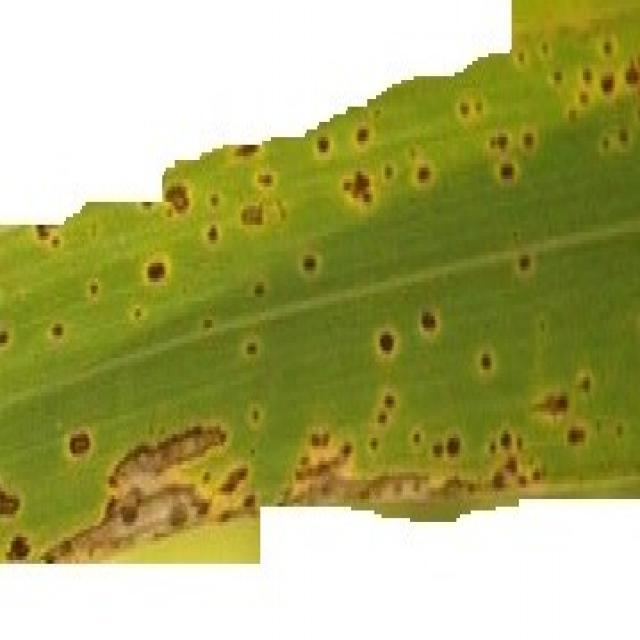Brownspot: (534, 392, 568, 417), (164, 184, 189, 213), (68, 430, 91, 457), (6, 535, 29, 561), (0, 488, 19, 516), (241, 204, 263, 225), (146, 260, 166, 282), (567, 425, 585, 444), (446, 435, 461, 457), (235, 144, 260, 157), (316, 136, 329, 153)
